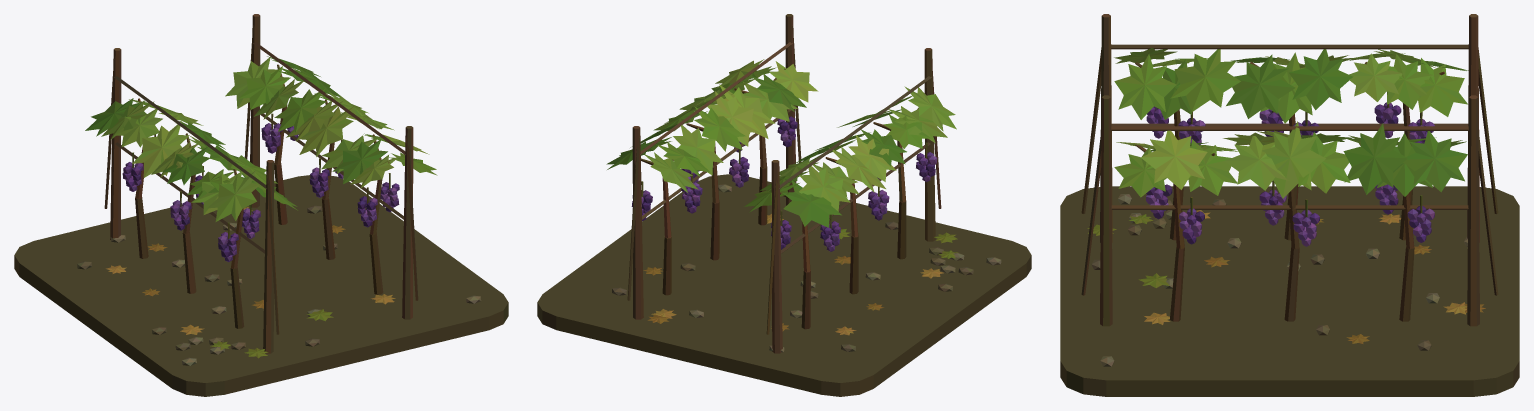
The model's file is vignoble_moyen.glb.
The picture shows the model from 3 angles, left to right: view 1: azimuth 30°, elevation 25°; view 2: azimuth 150°, elevation 25°; view 3: azimuth 270°, elevation 25°; orthographic projection. The views are drawn at different scales.
Visible parts, largest first — view 1: Sous_bois, Feuilles_et_grappes, Ceps_et_palissage; view 2: Sous_bois, Feuilles_et_grappes, Ceps_et_palissage; view 3: Sous_bois, Feuilles_et_grappes, Ceps_et_palissage.
Boxes of the visible parts, x1=… form: Sous_bois: x1=14, y1=175, x2=508, y2=396; Feuilles_et_grappes: x1=85, y1=56, x2=437, y2=358; Ceps_et_palissage: x1=104, y1=14, x2=418, y2=353; Sous_bois: x1=537, y1=174, x2=1031, y2=396; Feuilles_et_grappes: x1=606, y1=59, x2=958, y2=335; Ceps_et_palissage: x1=627, y1=14, x2=941, y2=353; Sous_bois: x1=1060, y1=186, x2=1519, y2=396; Feuilles_et_grappes: x1=1087, y1=47, x2=1485, y2=343; Ceps_et_palissage: x1=1081, y1=14, x2=1498, y2=326.
Bounding box in the file's own units: 0.5 × 0.294 × 0.5.
